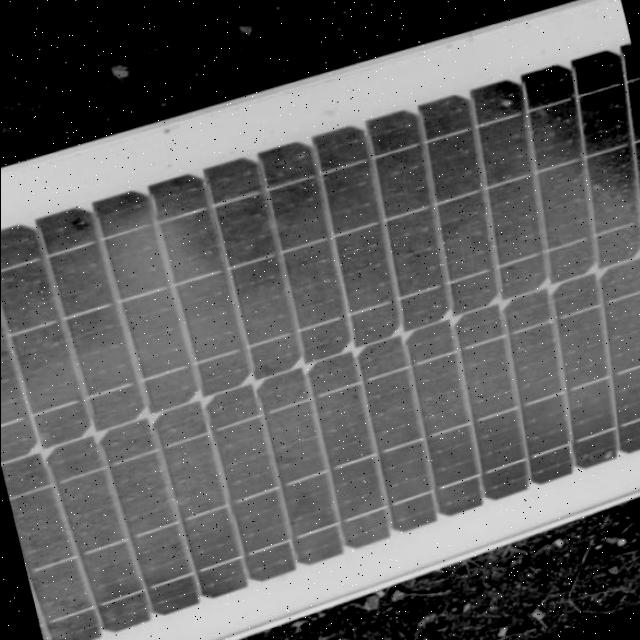Surface Contaminant: (0, 18, 640, 640)
